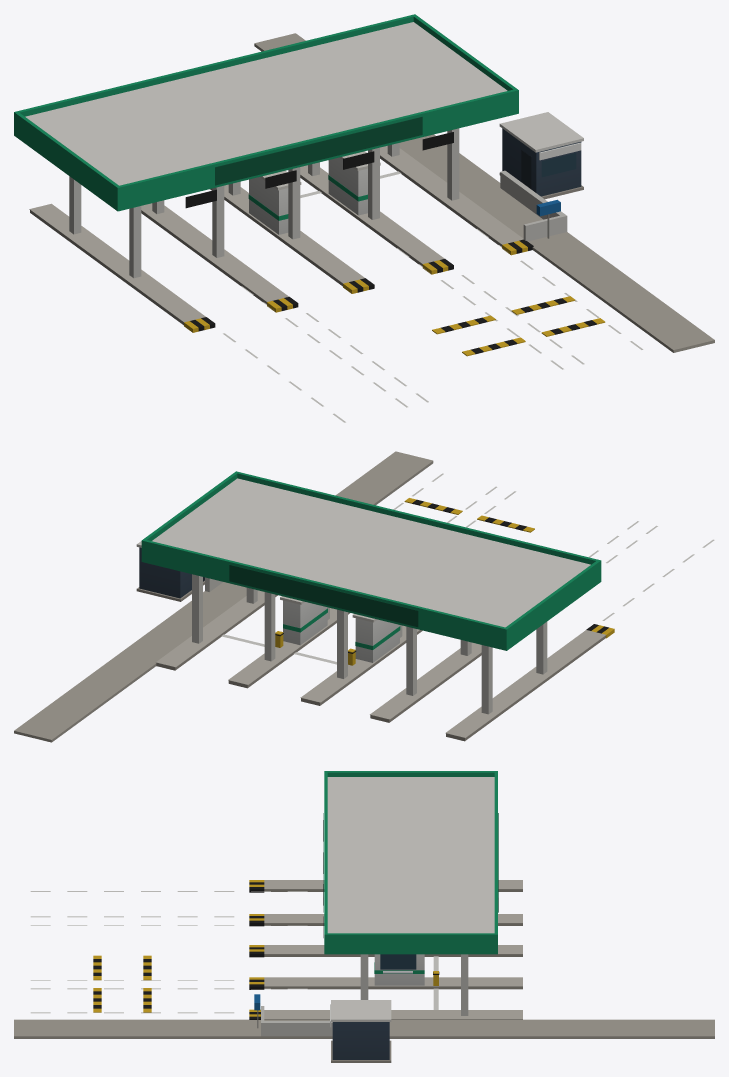
Rendered from ns_airtoll_lod1.glb.
The picture shows the model from 3 angles, top to bottom: view 1: azimuth 30°, elevation 25°; view 2: azimuth 150°, elevation 25°; view 3: azimuth 270°, elevation 25°; orthographic projection. The views are drawn at different scales.
Parts seen in each view (by area): view 1: ns_airtoll_lod1; view 2: ns_airtoll_lod1; view 3: ns_airtoll_lod1.
Boxes of the visible parts, <box> form: ns_airtoll_lod1: <box>14,14,714,422</box>; ns_airtoll_lod1: <box>14,451,714,742</box>; ns_airtoll_lod1: <box>14,771,714,1062</box>.
Bounding box in the file's own units: 27.2 × 6.6 × 42.
